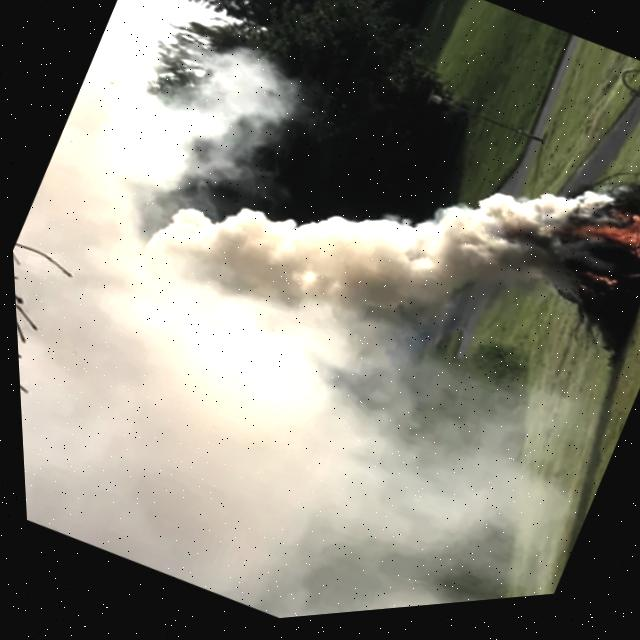Smoke: (2, 1, 604, 640)
